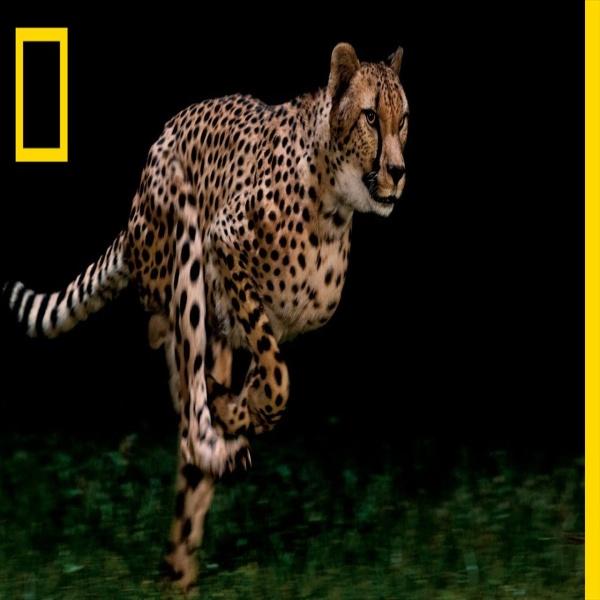Cheetah: (6, 41, 416, 594)
